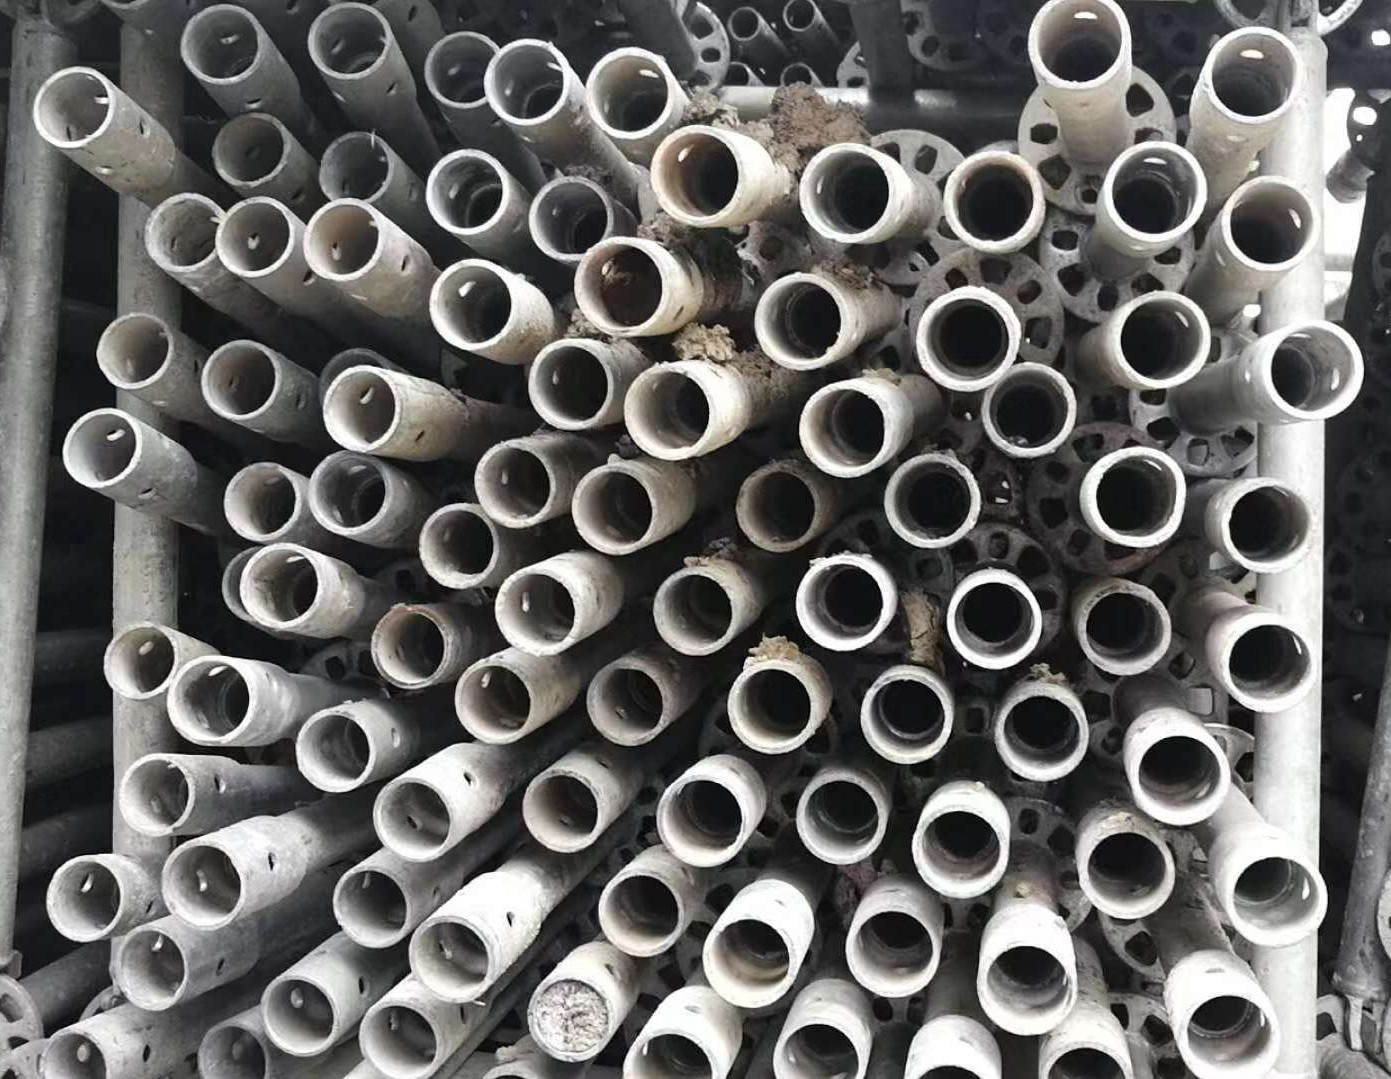blocked_circle_steel: (527, 974, 616, 1065)
circle_steel: (1099, 137, 1208, 243), (915, 289, 1017, 394), (941, 148, 1040, 255), (1113, 289, 1216, 392), (1090, 448, 1193, 547), (1263, 317, 1362, 422), (973, 944, 1079, 1038), (1130, 728, 1230, 828), (1227, 850, 1329, 948), (1219, 172, 1318, 272), (649, 125, 744, 228), (756, 274, 855, 372), (1208, 26, 1305, 125), (799, 141, 893, 243), (1027, 1, 1132, 91), (651, 774, 749, 871), (700, 916, 799, 1011), (1077, 581, 1173, 678), (1221, 476, 1315, 574), (910, 808, 1008, 902), (575, 239, 667, 337), (1178, 991, 1280, 1079), (843, 906, 939, 1000), (943, 578, 1041, 669), (801, 381, 891, 481), (624, 360, 711, 463), (985, 365, 1078, 459), (994, 692, 1088, 786), (585, 47, 679, 141), (886, 456, 980, 550), (1082, 828, 1175, 921), (860, 675, 952, 767), (795, 560, 885, 653), (427, 256, 517, 350), (155, 841, 246, 932), (527, 337, 612, 435), (167, 658, 256, 748), (727, 664, 815, 755), (408, 915, 497, 1005), (796, 777, 884, 867), (472, 437, 557, 530), (597, 872, 685, 959), (423, 149, 513, 235), (55, 407, 145, 493), (522, 765, 606, 856), (371, 777, 458, 863), (108, 926, 193, 1015), (571, 470, 657, 556), (415, 505, 500, 593), (528, 175, 612, 264), (495, 569, 578, 658), (321, 363, 404, 453), (305, 1, 395, 84), (304, 453, 391, 537), (196, 337, 283, 422), (367, 603, 450, 691), (240, 544, 323, 633), (735, 466, 819, 553), (586, 661, 670, 748), (651, 569, 734, 656), (449, 664, 536, 746), (485, 40, 567, 128), (45, 854, 125, 944), (300, 200, 384, 282), (355, 1002, 444, 1079), (119, 752, 195, 841), (32, 65, 113, 149), (216, 198, 296, 281), (178, 6, 263, 85), (294, 709, 373, 793), (260, 974, 339, 1056), (100, 617, 180, 700), (143, 192, 221, 275), (422, 28, 500, 111), (207, 114, 291, 187), (224, 464, 301, 543), (94, 316, 175, 389), (768, 1021, 866, 1079), (317, 130, 394, 202), (193, 1020, 271, 1079), (623, 1033, 721, 1079), (35, 1028, 112, 1079), (1039, 1046, 1132, 1079), (728, 6, 766, 44), (782, 1, 819, 35), (778, 59, 819, 88), (723, 60, 751, 88)
